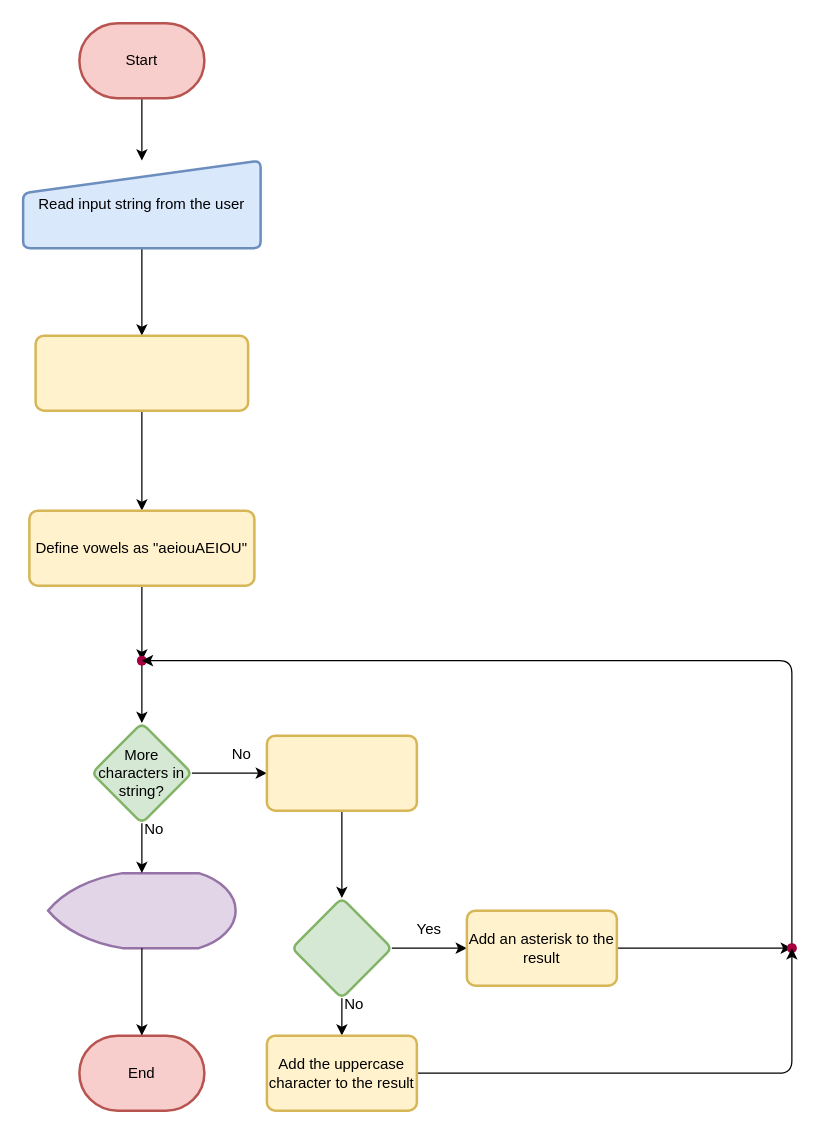
The diagram is 826 pixels wide and 1133 high, and some of its shapes have lost their labels. The box of each missing label's shape, as (x1, y1, x2, y2) in pixels:
Convert character to uppercase: (265, 734, 418, 811)
initialize an empty string for the result: (34, 334, 249, 411)
Is charater a vowel?: (290, 896, 392, 999)
Print the modified string: (46, 871, 236, 949)
